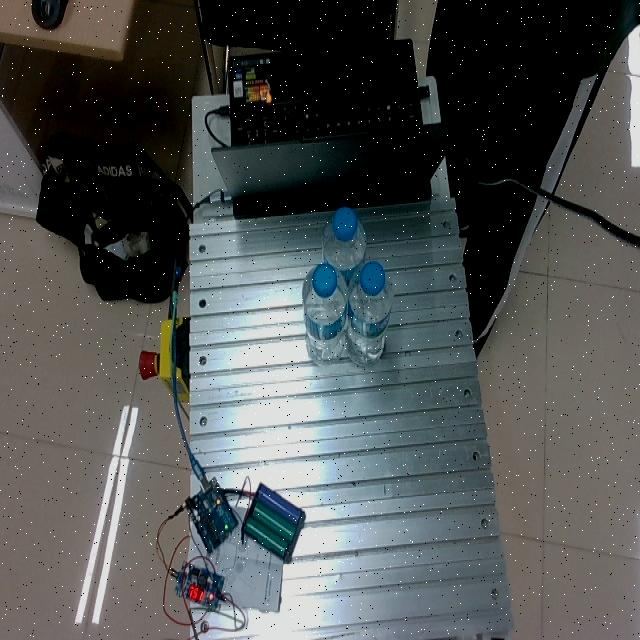lavie: (302, 263, 351, 365), (346, 262, 393, 366), (322, 208, 367, 292)
